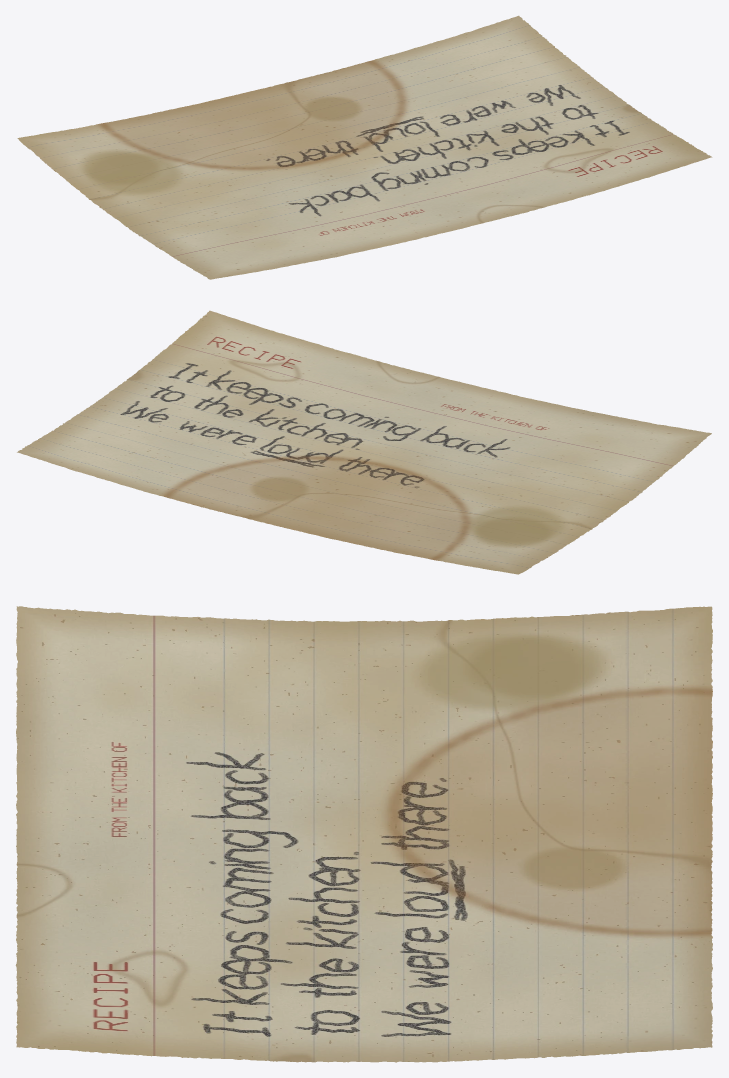
File: note_kitchen.glb
The picture shows the model from 3 angles, top to bottom: view 1: azimuth 30°, elevation 25°; view 2: azimuth 150°, elevation 25°; view 3: azimuth 270°, elevation 25°; orthographic projection. The views are drawn at different scales.
Visible parts, largest first — view 1: note_kitchen; view 2: note_kitchen; view 3: note_kitchen.
Boxes of the visible parts, bbox=[...] form: note_kitchen: bbox=[17, 15, 712, 279]; note_kitchen: bbox=[17, 310, 711, 574]; note_kitchen: bbox=[15, 606, 712, 1062].
Size of the model in its own units: 0.15 by 0.003 by 0.1.
1 material, 1 textured.
